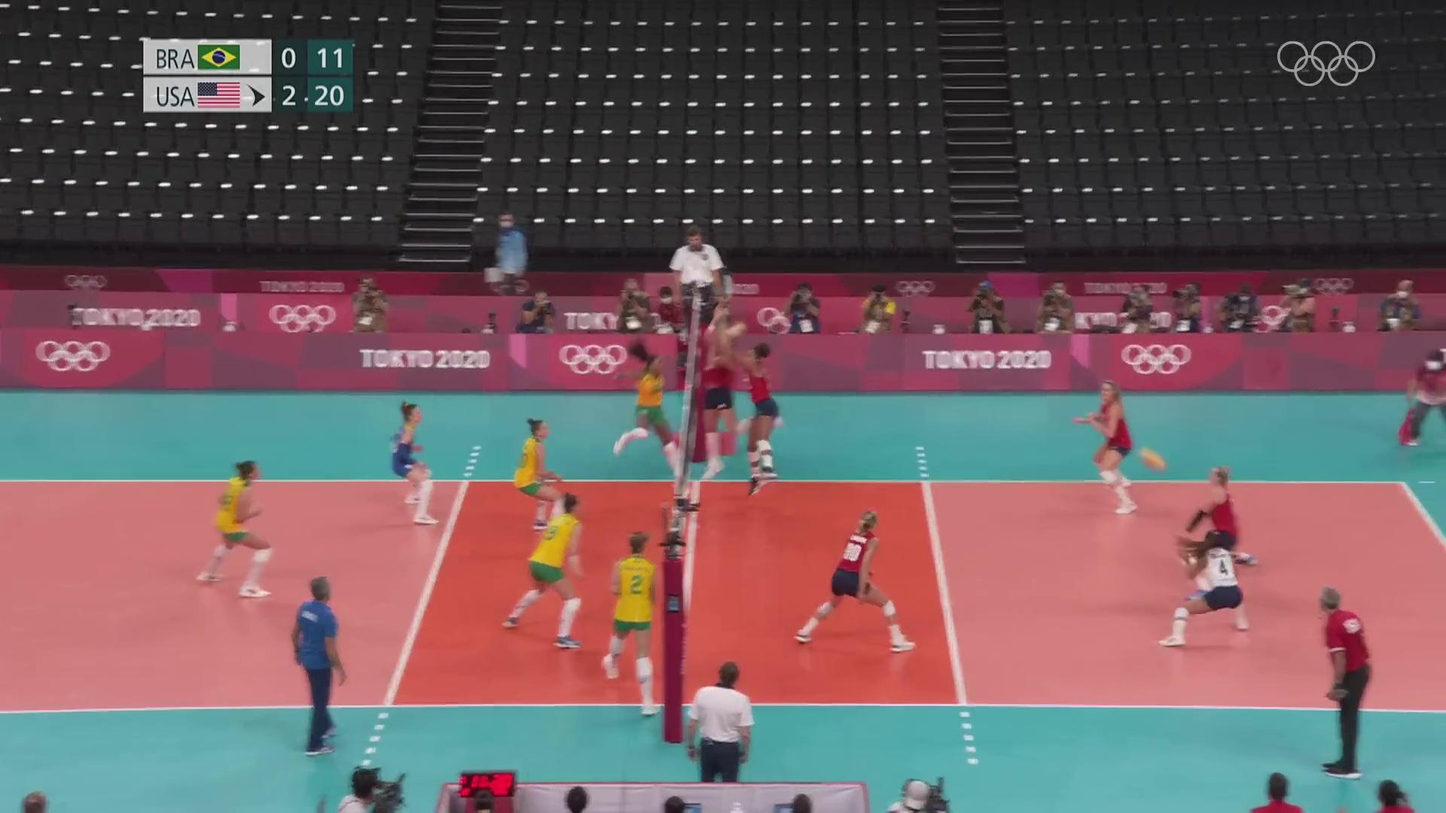player: (794, 511, 920, 656), (502, 494, 583, 650), (598, 534, 667, 716), (195, 462, 274, 597), (614, 340, 683, 490), (1167, 530, 1254, 648), (1074, 379, 1145, 516), (1182, 463, 1259, 572), (726, 341, 779, 499), (512, 418, 578, 538), (705, 312, 749, 482), (387, 403, 445, 528)
refree: (686, 663, 755, 783), (671, 225, 728, 334), (1402, 350, 1446, 452)
